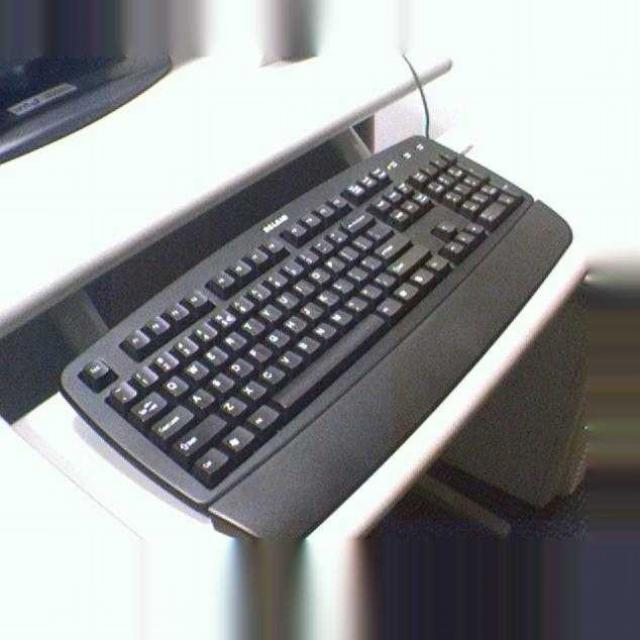keyboard: (68, 134, 573, 545)
